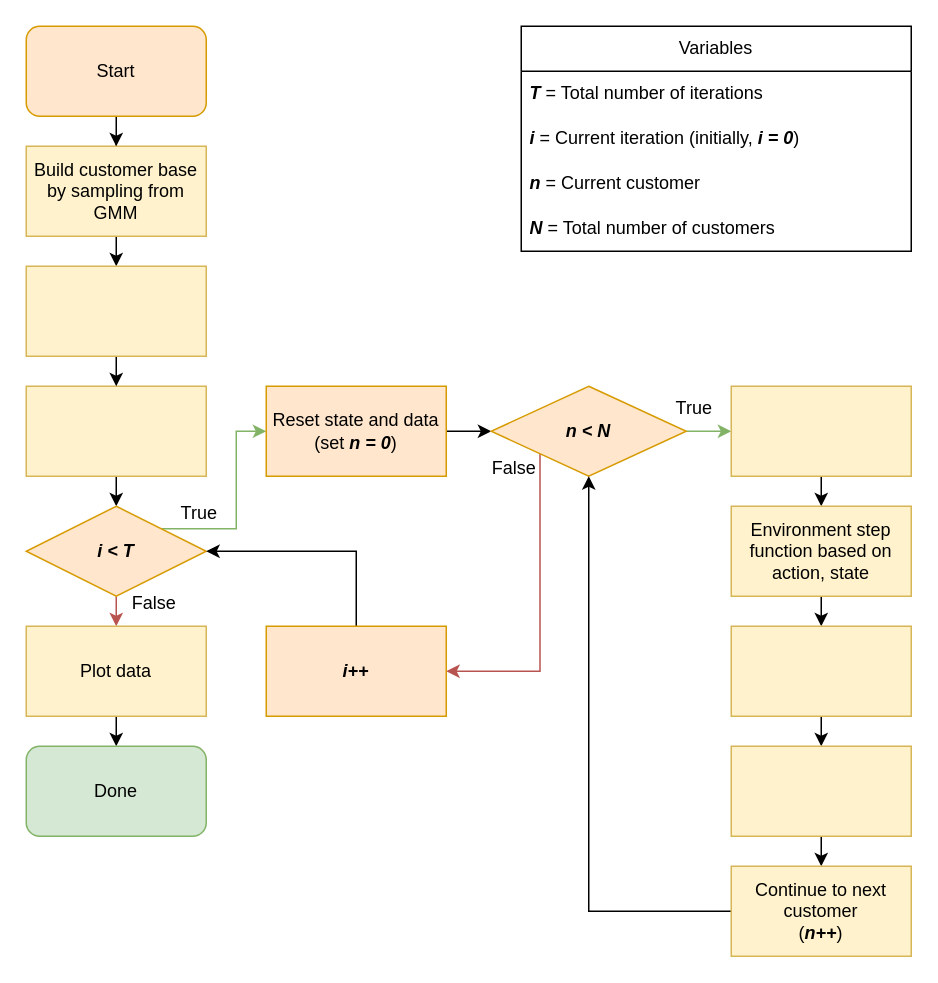
This 938x983 diagram has some shape labels left out. The shapes that lost their labels are listed below. From the top down, each one's centre as x and y in pixels, then its label:
the point at 115,310: Initialise environment
the point at 115,430: Initialise agent parameters
the point at 820,430: Agent chooses action
the point at 820,670: Agent receives reward and performs update (learning)
the point at 820,790: Store reward for logging purposes
